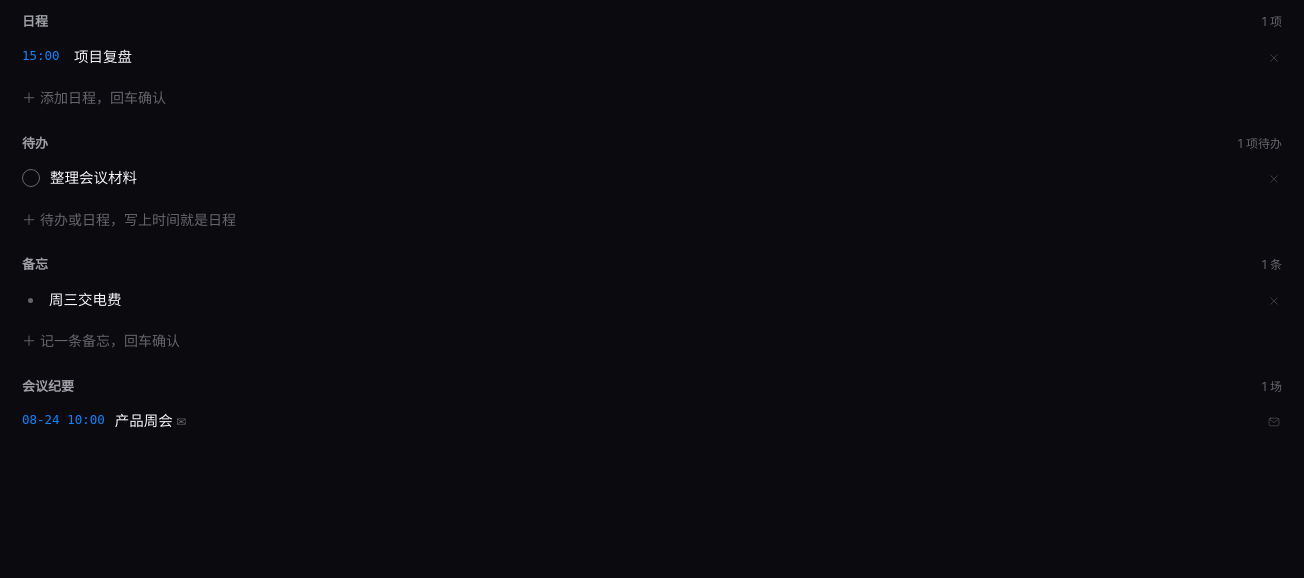
Test: 会议纪要卡片 › 列出会议并点开查看纪要
Click the button titled "查看纪要".
click(144, 420)  # box [115,410,1252,432]
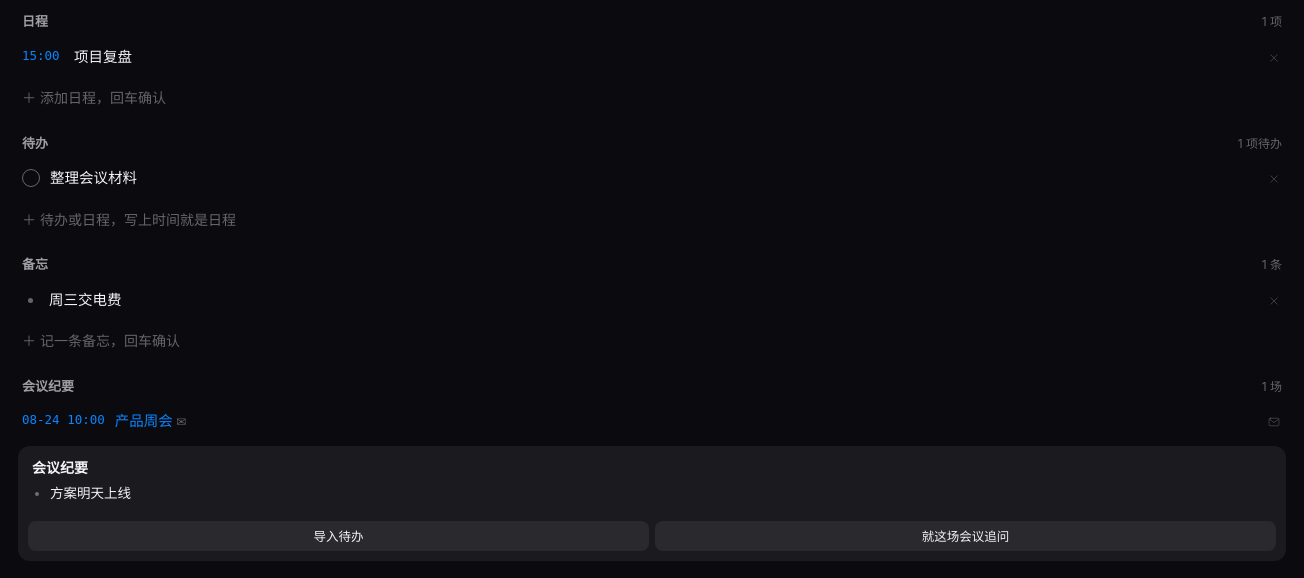
Now the text "会议纪要 方案明天上线" is shown, box [32,459,131,501]
